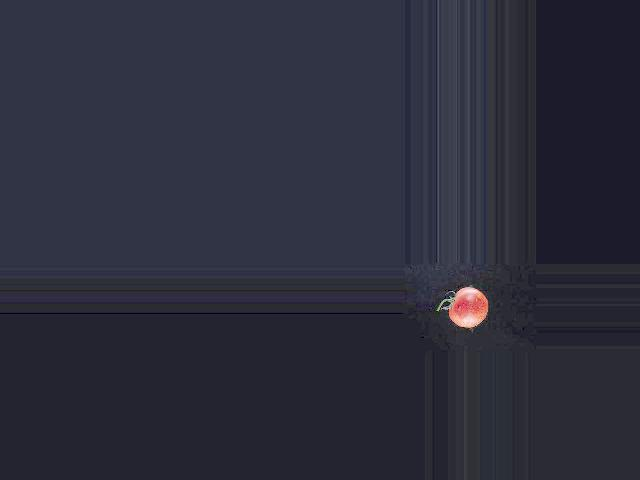tomato: (448, 287, 488, 328)
